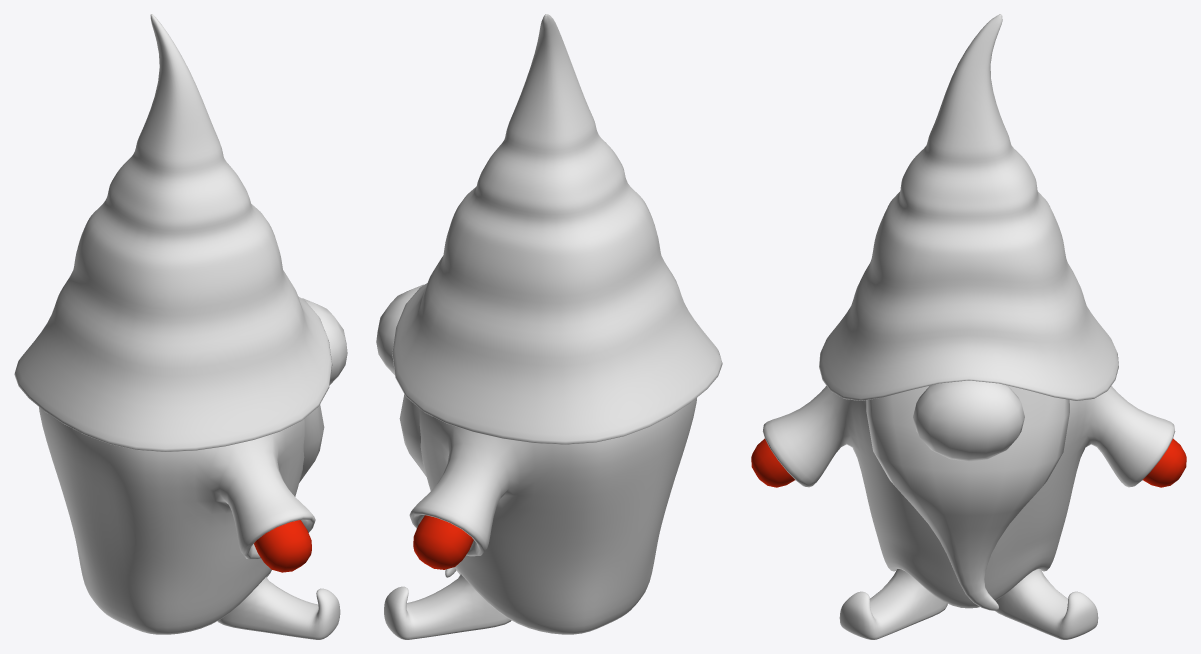
The model's file is Gnomo.fbx.
The picture shows the model from 3 angles, left to right: view 1: azimuth 30°, elevation 25°; view 2: azimuth 150°, elevation 25°; view 3: azimuth 270°, elevation 25°; orthographic projection. The views are drawn at different scales.
Visible parts, largest first — view 1: Roundcube.001, Roundcube, Cube, Roundcube.002, Roundcube.004; view 2: Roundcube.001, Roundcube, Cube, Roundcube.002, Roundcube.004; view 3: Roundcube.001, Roundcube, Roundcube.004, Cube, Roundcube.002.
Part boxes in pixels (left/top/right/bottom): Roundcube.001: left=14, top=14, right=332, bottom=451; Roundcube: left=39, top=407, right=315, bottom=634; Cube: left=217, top=577, right=340, bottom=639; Roundcube.002: left=302, top=298, right=347, bottom=384; Roundcube.004: left=299, top=404, right=324, bottom=482; Roundcube.001: left=392, top=14, right=722, bottom=444; Roundcube: left=409, top=398, right=696, bottom=634; Cube: left=384, top=574, right=511, bottom=639; Roundcube.002: left=376, top=284, right=423, bottom=374; Roundcube.004: left=399, top=394, right=456, bottom=577; Roundcube.001: left=819, top=14, right=1118, bottom=400; Roundcube: left=751, top=386, right=1186, bottom=608; Roundcube.004: left=866, top=386, right=1069, bottom=610; Cube: left=839, top=569, right=1098, bottom=639; Roundcube.002: left=913, top=380, right=1024, bottom=461.
Bounding box in the file's own units: 88.95 × 170 × 117.
